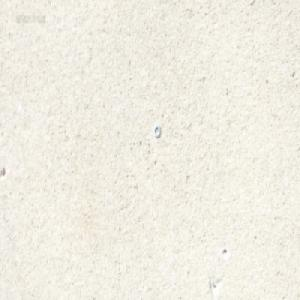Washer: (153, 124, 161, 138)
